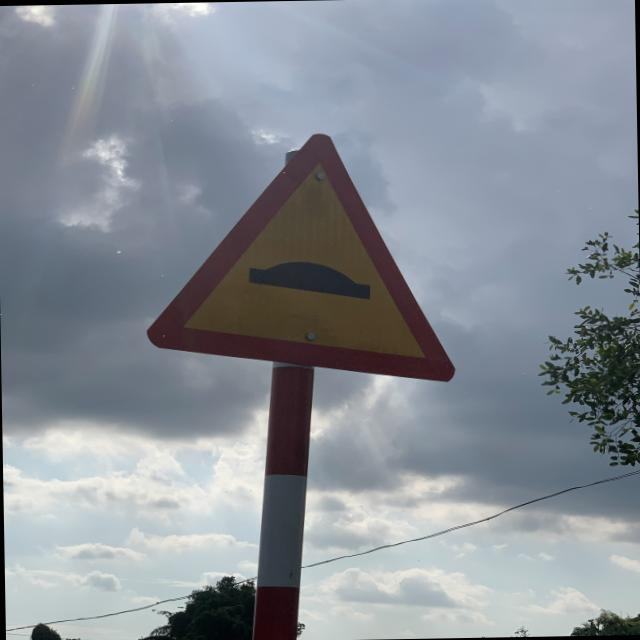Duong_Cong_Ben_Phai: (140, 128, 458, 388)
